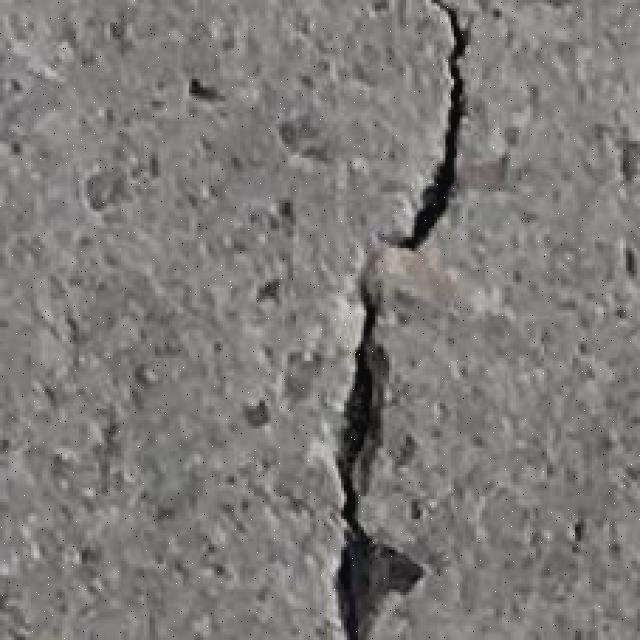crack: (332, 1, 470, 637)
